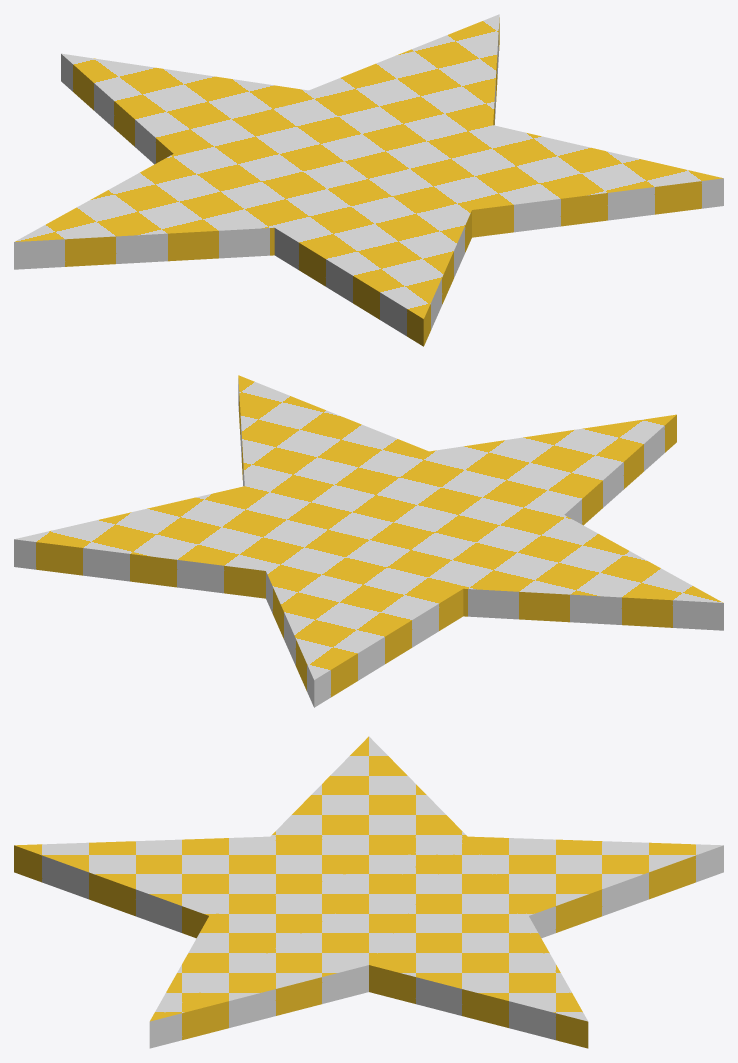
The model's file is Panel.mod.fbx.
3 views of the same model, one above another, from view 1: azimuth 30°, elevation 25°; view 2: azimuth 150°, elevation 25°; view 3: azimuth 270°, elevation 25° (orthographic). The views are drawn at different scales.
Parts seen in each view (by area): view 1: Panel; view 2: Panel; view 3: Panel.
Boxes of the visible parts, left/top/right/bottom form: Panel: left=14, top=14, right=723, bottom=346; Panel: left=14, top=375, right=723, bottom=707; Panel: left=14, top=736, right=723, bottom=1048.
Size of the model in its own units: 1.81 by 1.9 by 0.08.
1 material, 1 textured.
